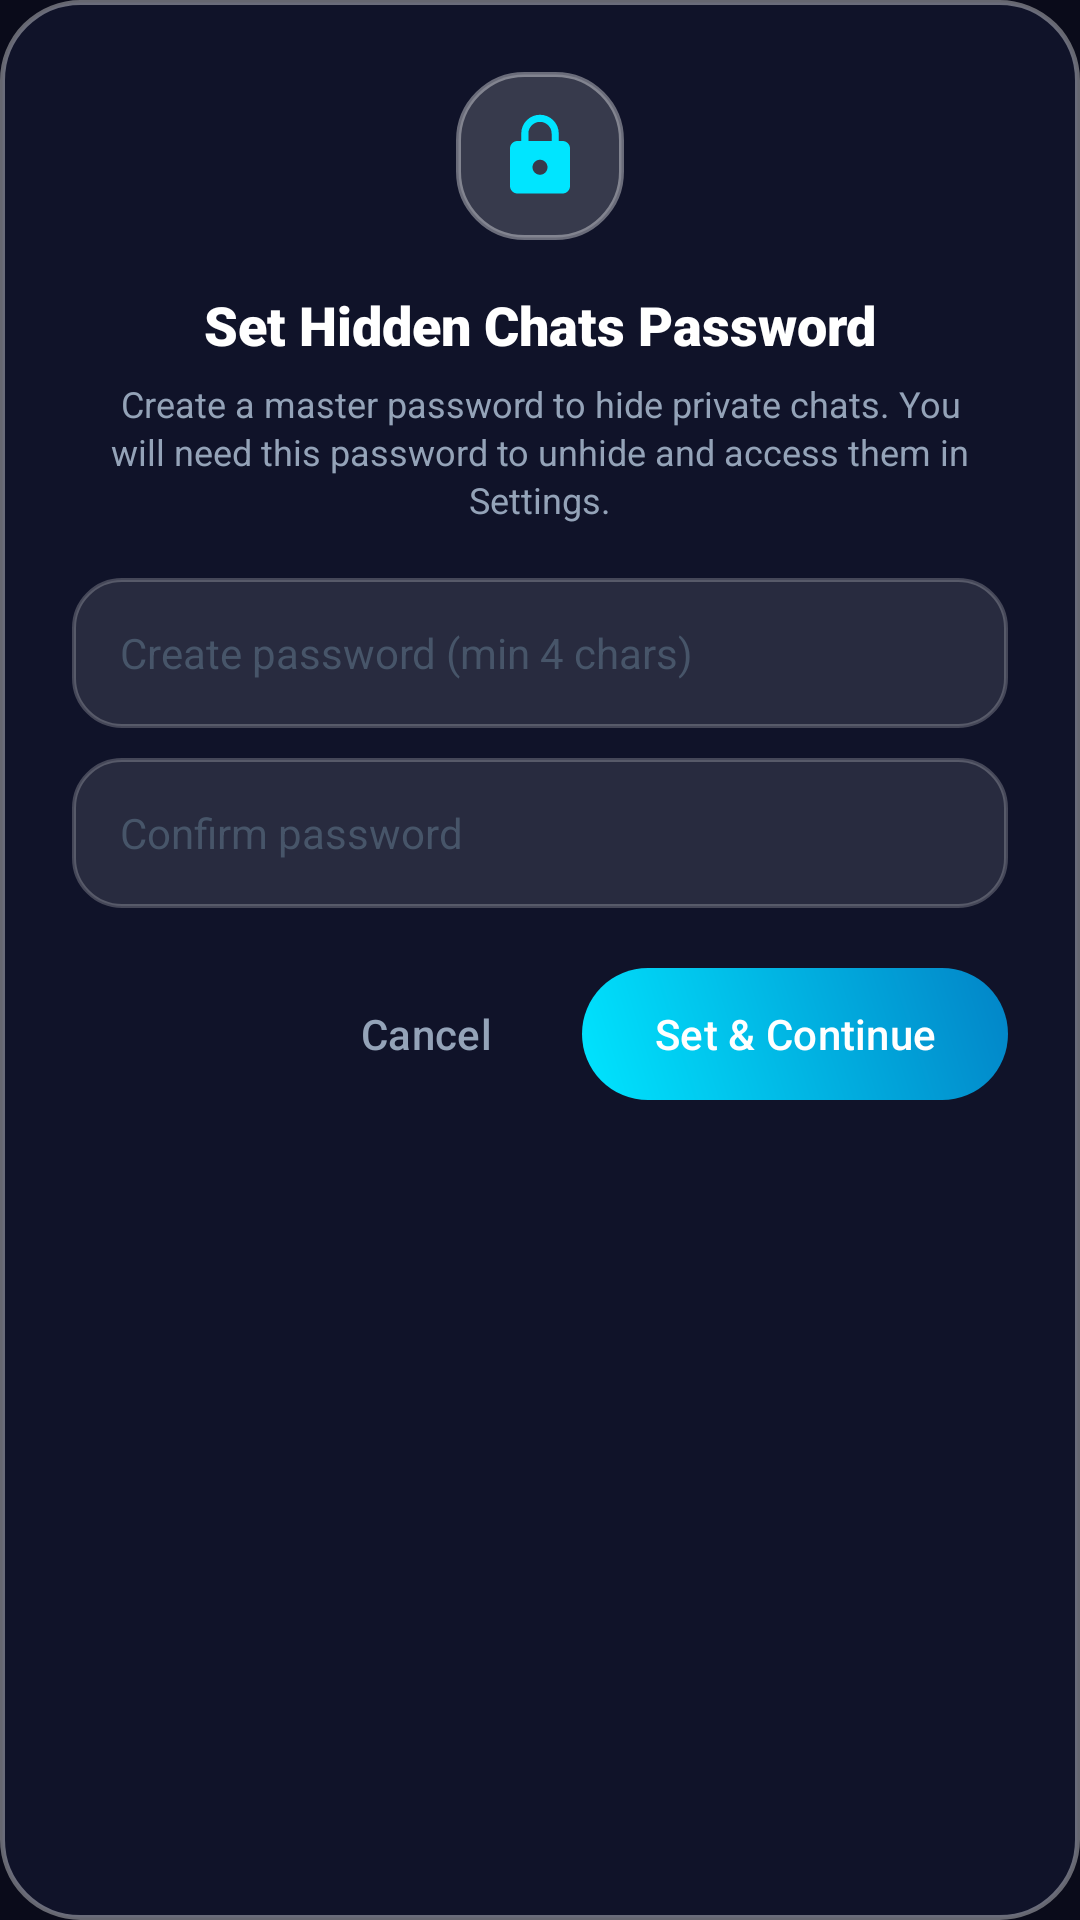

Named icons in this screenshot (1080px x 1920px) and their bounding boxes, (x1=x1, y1=y1, x2=x2, y2=y2):
lock: (x1=510, y1=114, x2=570, y2=194)
